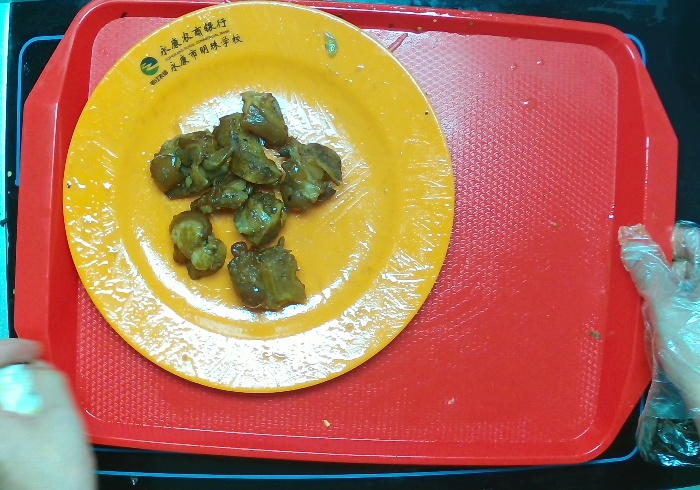YKMZ-Ju_Se_Mian_Pan: (55, 1, 464, 398)
